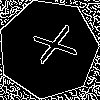X: (23, 24, 78, 69)
